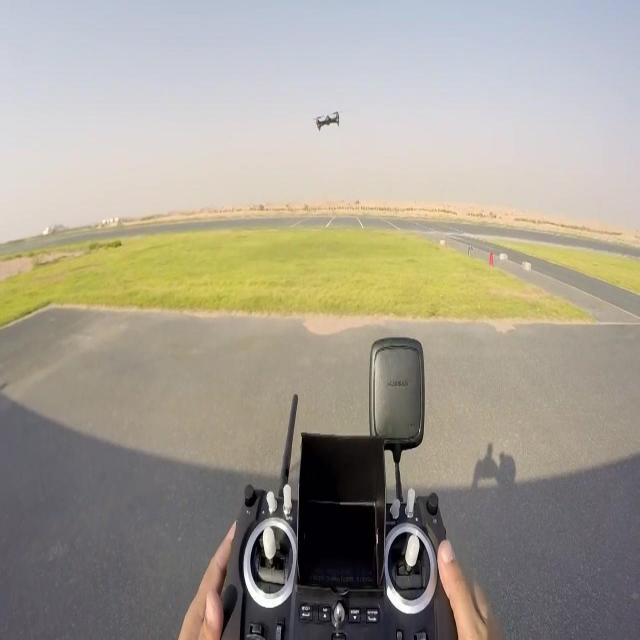UAV: (312, 110, 340, 132)
